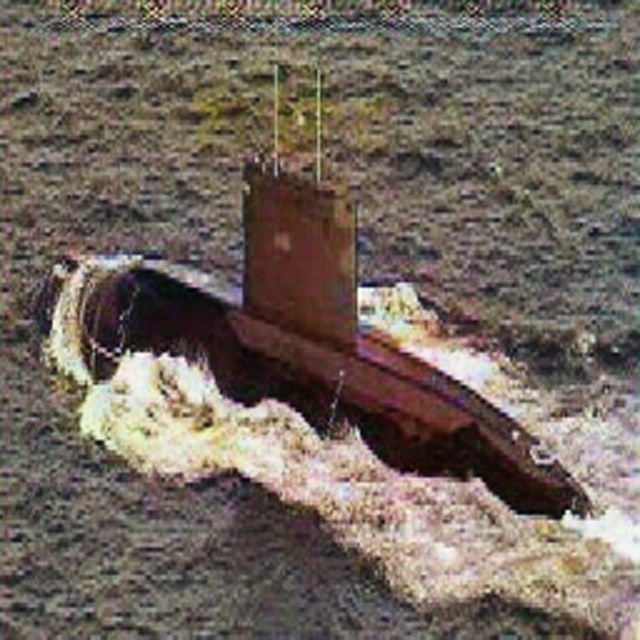submarine: (19, 20, 596, 561)
